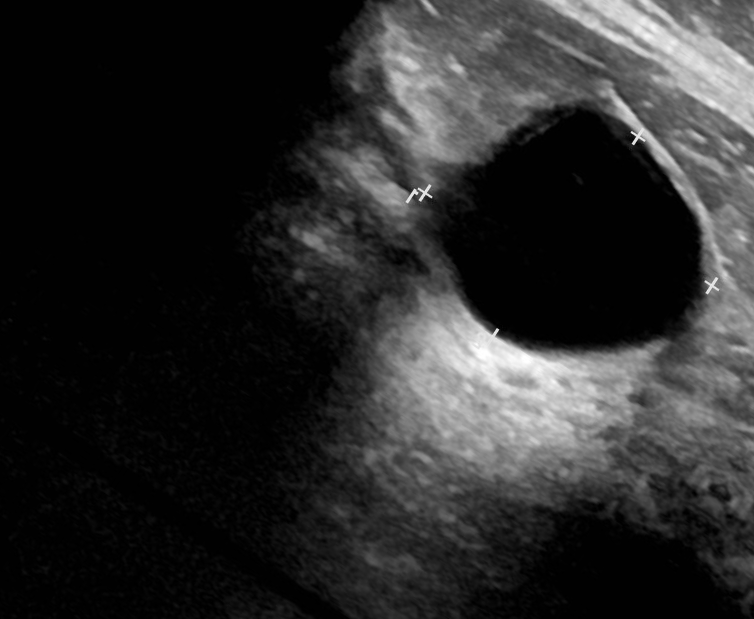Benign: (443, 114, 703, 355)
